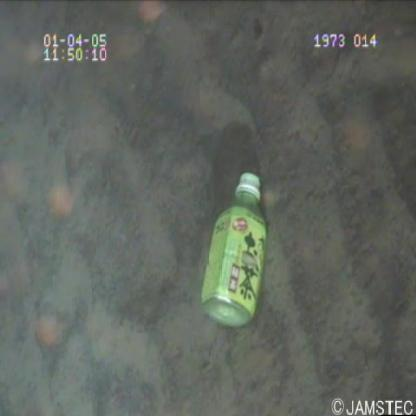Rác: (196, 158, 284, 343)
